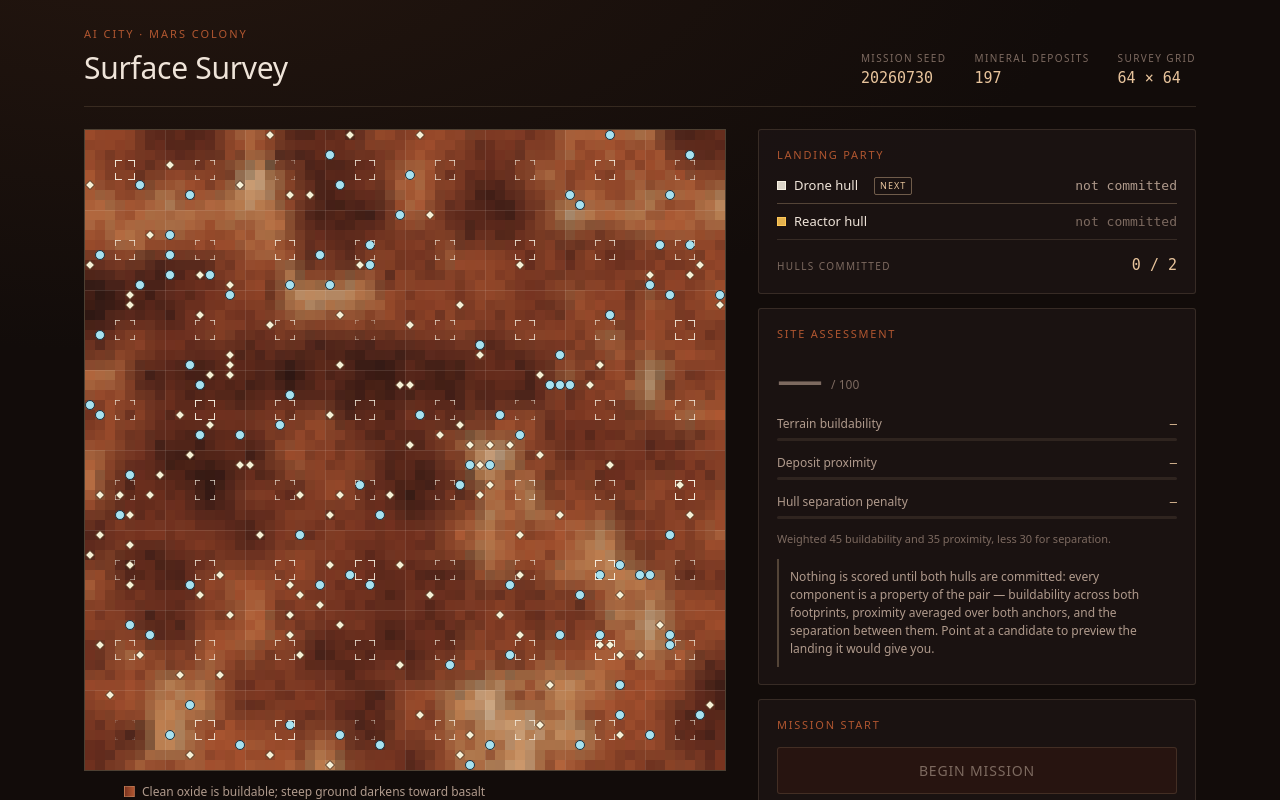
Scenario: App — dispatching the landing decision › should score the landing through the sim once both hulls are committed
Click the button named "Candidate touchdown point (3, 3) — commits the drone hull" at (125, 170), box [111,156,139,184]
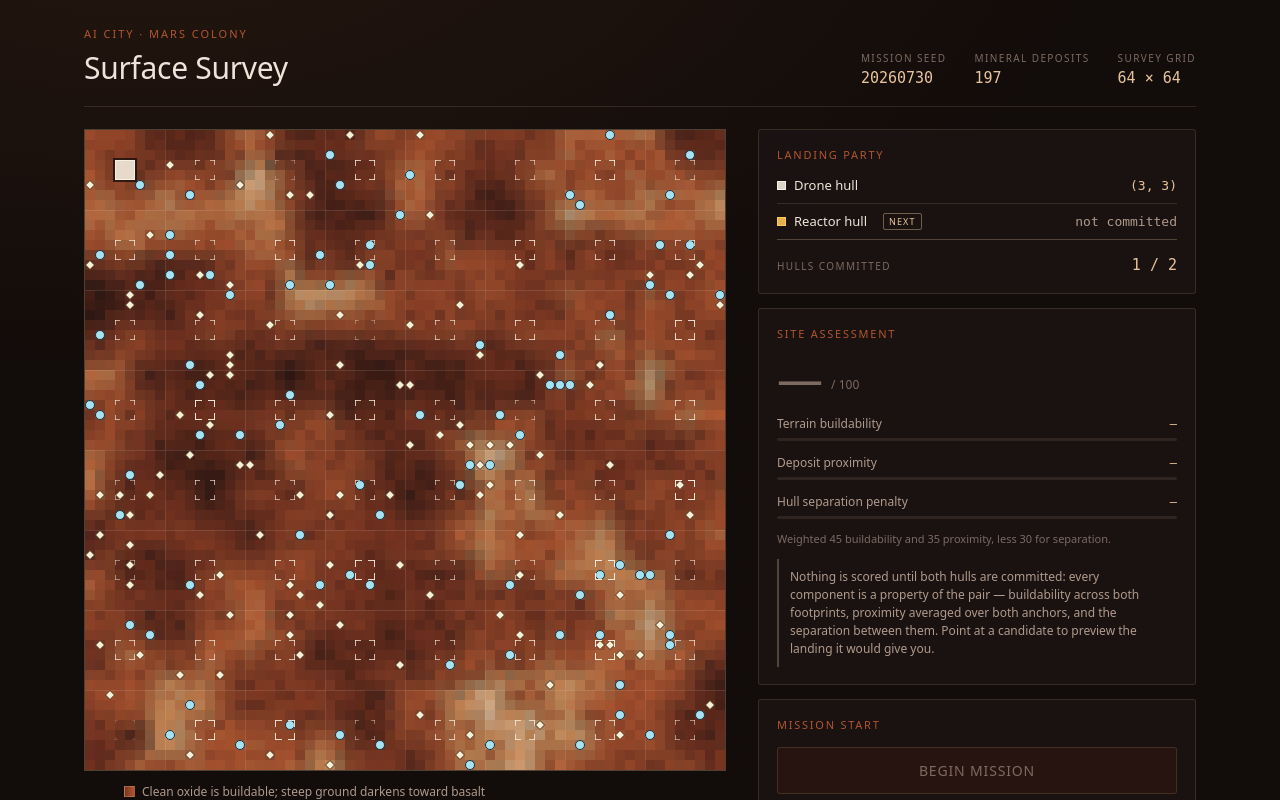
Click the button named "Candidate touchdown point (11, 3) — commits the reactor hull" at (205, 170), box [191,156,219,184]
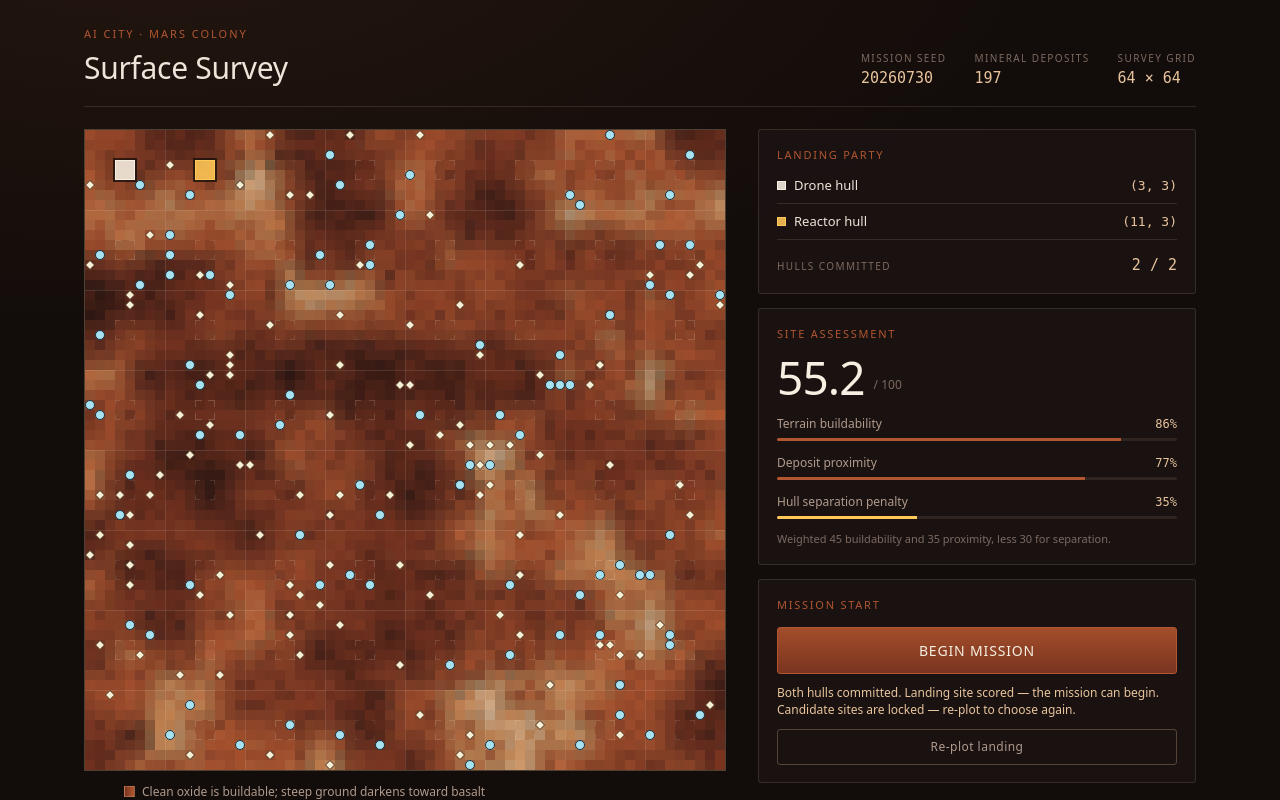
Result: the text with test id "site-score" reads "55.2" at [777,346,865,408]
Result: the button with test id "begin-mission" is enabled at [777,627,1177,674]
